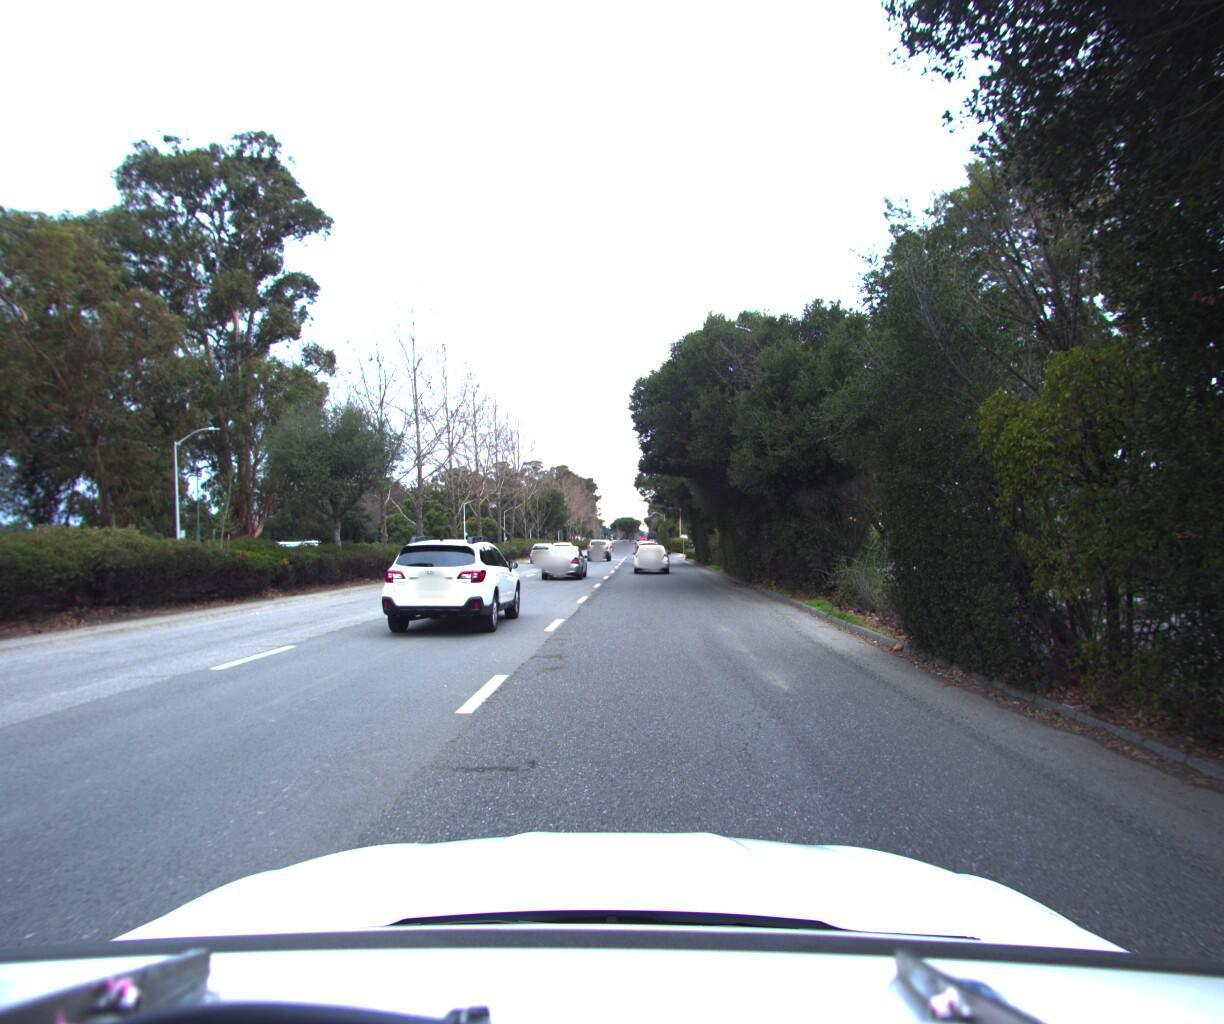car: (372, 527, 533, 637), (537, 540, 592, 577), (633, 537, 671, 571), (549, 537, 578, 563), (523, 538, 556, 560), (586, 532, 611, 557)
